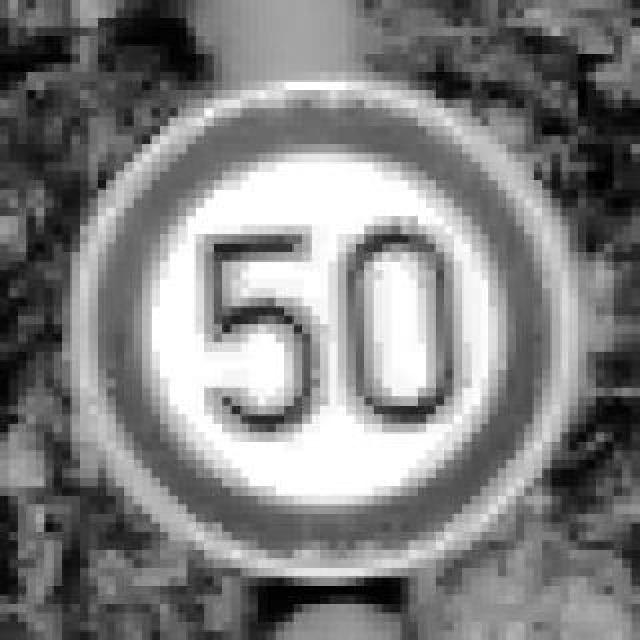50 kph: (62, 64, 570, 568)
